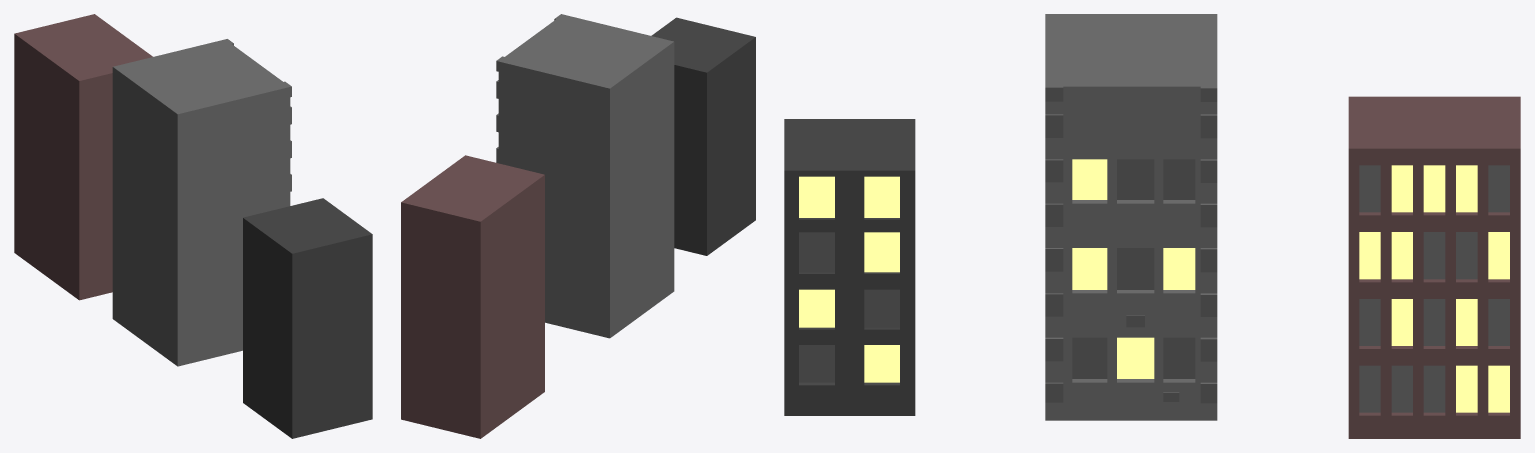
File: haus3.fbx
3 views of the same model, side by side, from view 1: azimuth 30°, elevation 25°; view 2: azimuth 150°, elevation 25°; view 3: azimuth 270°, elevation 25° (orthographic). The views are drawn at different scales.
Parts seen in each view (by area): view 1: haus3, haus1, haus2; view 2: haus3, haus2, haus1; view 3: haus3, haus2, haus1.
Part boxes in pixels (x1=…): haus3: x1=112, y1=39, x2=291, y2=366; haus1: x1=243, y1=198, x2=372, y2=438; haus2: x1=14, y1=14, x2=152, y2=300; haus3: x1=496, y1=14, x2=674, y2=338; haus2: x1=401, y1=155, x2=544, y2=438; haus1: x1=651, y1=17, x2=755, y2=255; haus3: x1=1045, y1=14, x2=1217, y2=420; haus2: x1=1348, y1=96, x2=1520, y2=438; haus1: x1=784, y1=119, x2=915, y2=415.
Size of the model in its own units: 715 by 1628 by 2995.
